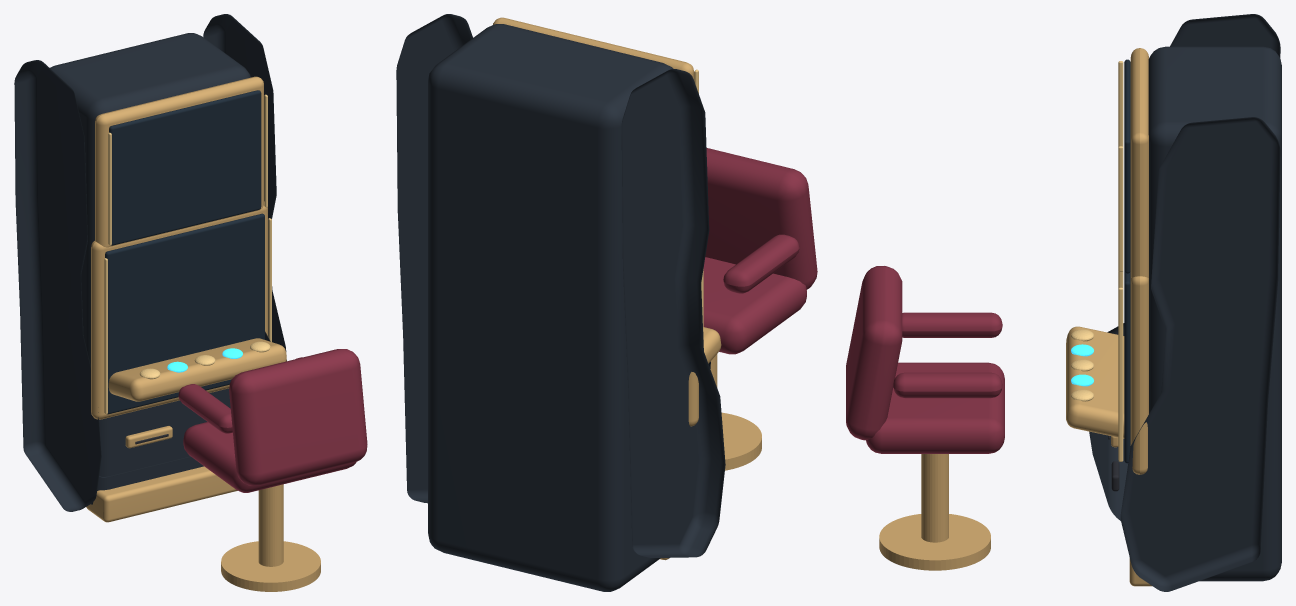
The model's file is aurelia_hero.glb.
The picture shows the model from 3 angles, left to right: view 1: azimuth 30°, elevation 25°; view 2: azimuth 150°, elevation 25°; view 3: azimuth 270°, elevation 25°; orthographic projection. The views are drawn at different scales.
Visible parts, largest first — view 1: sculpted cabinet side cheek, main floating glass display, upper floating glass display, central integrated cabinet chassis, low contoured upholstered chair back, ergonomic angled control deck, upper champagne bezel, bronze toe kick, main champagne bezel, sculpted cabinet side cheek.001, chair polished circular foot, thick tailored leather seat (+5 smaller); view 2: central integrated cabinet chassis, sculpted cabinet side cheek, sculpted cabinet side cheek.001, low contoured upholstered chair back, thick tailored leather seat, integrated upholstered armrest, chair polished circular foot, upper champagne bezel, main champagne bezel; view 3: sculpted cabinet side cheek.001, central integrated cabinet chassis, thick tailored leather seat, low contoured upholstered chair back, ergonomic angled control deck, chair polished circular foot, upper champagne bezel, main champagne bezel, sculpted cabinet side cheek, integrated upholstered armrest.001, integrated upholstered armrest, chair adjustable pedestal (+5 smaller).
Boxes of the visible parts, x1=… form: sculpted cabinet side cheek: x1=14, y1=60, x2=101, y2=511; main floating glass display: x1=105, y1=213, x2=264, y2=414; upper floating glass display: x1=109, y1=90, x2=261, y2=245; central integrated cabinet chassis: x1=50, y1=33, x2=250, y2=504; low contoured upholstered chair back: x1=229, y1=349, x2=367, y2=485; ergonomic angled control deck: x1=108, y1=338, x2=286, y2=401; upper champagne bezel: x1=95, y1=76, x2=263, y2=247; bronze toe kick: x1=86, y1=466, x2=237, y2=522; main champagne bezel: x1=91, y1=201, x2=267, y2=419; sculpted cabinet side cheek.001: x1=203, y1=14, x2=286, y2=360; chair polished circular foot: x1=221, y1=541, x2=320, y2=591; thick tailored leather seat: x1=183, y1=422, x2=356, y2=492; central integrated cabinet chassis: x1=428, y1=24, x2=673, y2=591; sculpted cabinet side cheek: x1=621, y1=69, x2=725, y2=557; sculpted cabinet side cheek.001: x1=396, y1=14, x2=472, y2=503; low contoured upholstered chair back: x1=705, y1=148, x2=817, y2=289; thick tailored leather seat: x1=703, y1=257, x2=806, y2=354; integrated upholstered armrest: x1=723, y1=234, x2=799, y2=293; chair polished circular foot: x1=721, y1=412, x2=761, y2=470; upper champagne bezel: x1=493, y1=17, x2=694, y2=80; main champagne bezel: x1=688, y1=372, x2=698, y2=426; sculpted cabinet side cheek.001: x1=1120, y1=117, x2=1280, y2=591; central integrated cabinet chassis: x1=1148, y1=46, x2=1281, y2=581; thick tailored leather seat: x1=866, y1=362, x2=1004, y2=453; low contoured upholstered chair back: x1=846, y1=266, x2=902, y2=440; ergonomic angled control deck: x1=1066, y1=326, x2=1124, y2=438; chair polished circular foot: x1=879, y1=514, x2=990, y2=570; upper champagne bezel: x1=1130, y1=48, x2=1148, y2=277; main champagne bezel: x1=1130, y1=276, x2=1148, y2=474; sculpted cabinet side cheek: x1=1170, y1=14, x2=1280, y2=57; integrated upholstered armrest.001: x1=893, y1=372, x2=1002, y2=398; integrated upholstered armrest: x1=902, y1=312, x2=1002, y2=337; chair adjustable pedestal: x1=921, y1=454, x2=948, y2=542.
Size of the model in its own units: 1.07 by 2.08 by 1.72.
